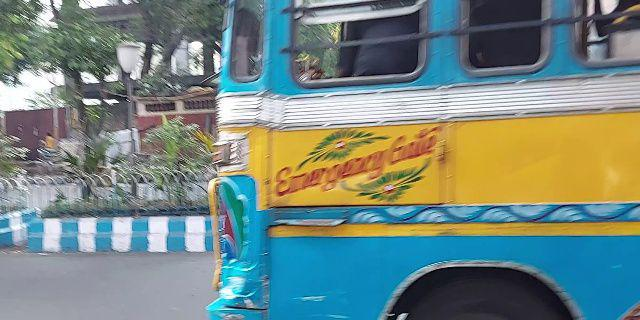Bus: (207, 1, 640, 320)
